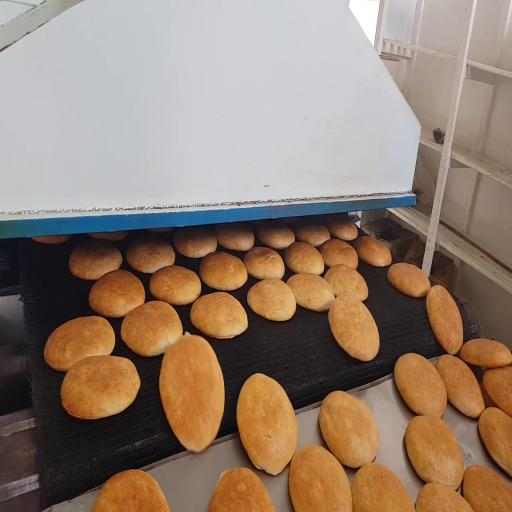bread: (159, 336, 224, 452), (237, 374, 297, 475), (61, 356, 140, 419), (319, 391, 379, 467), (405, 416, 464, 489), (289, 445, 352, 511), (44, 316, 115, 371), (394, 353, 447, 418), (121, 301, 182, 356), (329, 294, 379, 361), (92, 470, 169, 511), (436, 355, 485, 418), (352, 463, 414, 511), (209, 468, 275, 511), (89, 270, 145, 317), (190, 292, 247, 338), (427, 285, 463, 355), (479, 408, 511, 476), (463, 466, 511, 511), (69, 240, 122, 280), (247, 279, 296, 321), (150, 266, 201, 305), (200, 252, 247, 291), (287, 274, 334, 311), (127, 238, 175, 274), (416, 483, 472, 511), (325, 265, 368, 301), (459, 339, 511, 368), (387, 263, 430, 297), (483, 366, 511, 416), (174, 226, 217, 258), (244, 247, 284, 279), (285, 242, 324, 274), (319, 239, 358, 268), (214, 223, 254, 251), (354, 237, 391, 266), (258, 221, 295, 249), (295, 222, 330, 246), (326, 218, 358, 240), (89, 231, 127, 241), (32, 235, 71, 244), (280, 217, 299, 225), (148, 228, 174, 233)
